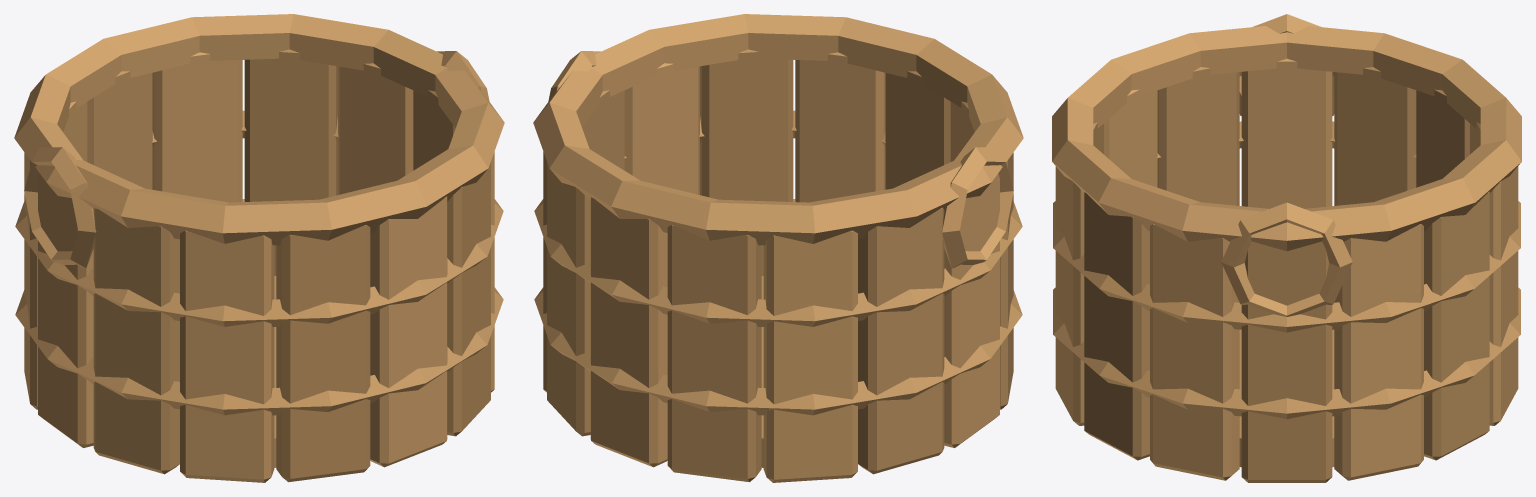
The model's file is woven_basket.glb.
The picture shows the model from 3 angles, left to right: view 1: azimuth 30°, elevation 25°; view 2: azimuth 150°, elevation 25°; view 3: azimuth 270°, elevation 25°; orthographic projection. The views are drawn at different scales.
Parts seen in each view (by area): view 1: woven_basket; view 2: woven_basket; view 3: woven_basket.
Part boxes in pixels (x1,y1,x2,y2): woven_basket: [14, 14, 504, 482]; woven_basket: [533, 14, 1023, 482]; woven_basket: [1052, 14, 1521, 482].
Size of the model in its own units: 0.454 by 0.292 by 0.4426.
